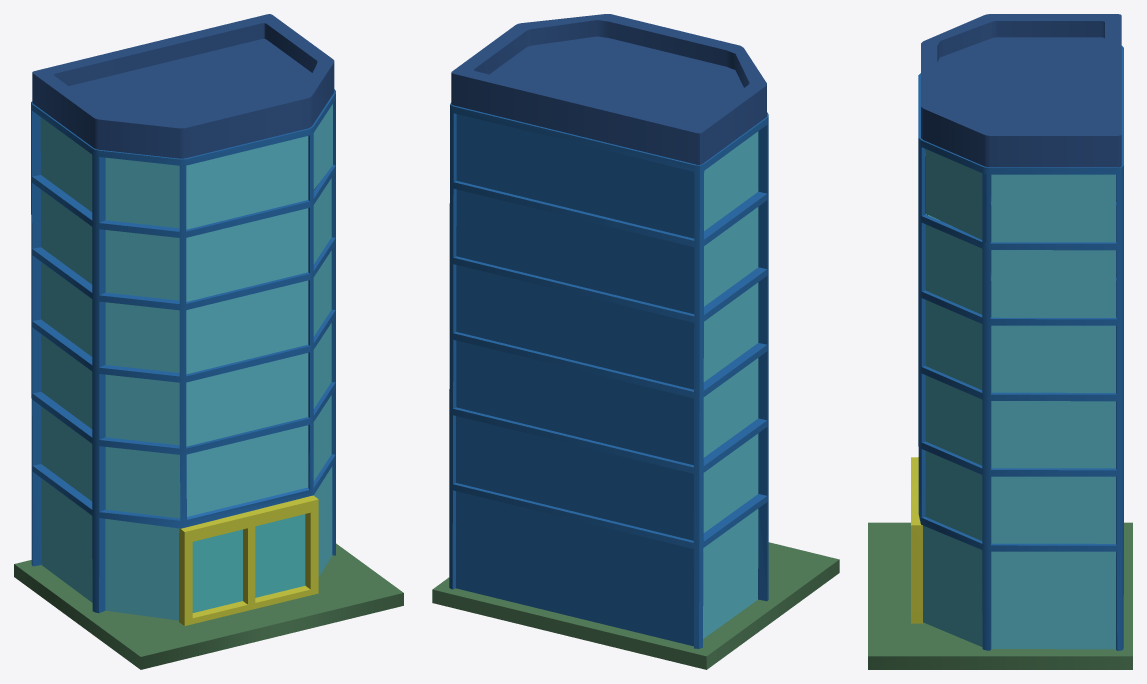
The model's file is Bilidingver01.fbx.
3 renders of one model, left to right at view 1: azimuth 30°, elevation 25°; view 2: azimuth 150°, elevation 25°; view 3: azimuth 270°, elevation 25°, orthographic. The views are drawn at different scales.
Visible parts, largest first — view 1: window, Box001, Top, Floor, DoorWindow, Door; view 2: Box001, Top, window, Floor; view 3: window, Top, Box001, Floor, Door.
Boxes of the visible parts, <box> form: window: <box>40,104,332,620</box>; Box001: <box>31,89,335,613</box>; Top: <box>32,14,334,158</box>; Floor: <box>14,543,403,669</box>; DoorWindow: <box>192,514,305,612</box>; Door: <box>179,495,318,625</box>; Box001: <box>449,102,768,648</box>; Top: <box>451,14,766,164</box>; window: <box>703,131,758,638</box>; Floor: <box>432,542,839,669</box>; window: <box>923,149,1115,649</box>; Top: <box>921,14,1121,167</box>; Box001: <box>918,46,1123,650</box>; Floor: <box>868,522,1132,669</box>; Door: <box>911,457,922,623</box>.
Bounding box in the file's own units: 224 × 411 × 187.
